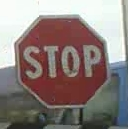stop: (12, 12, 110, 108)
